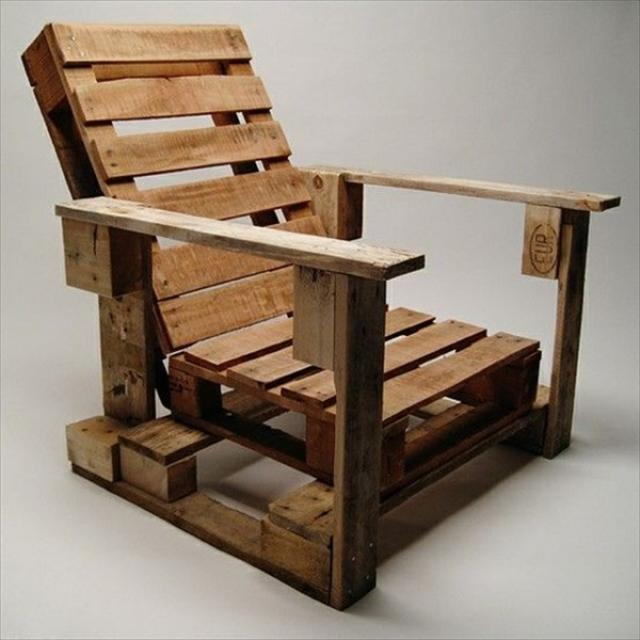Palette: (16, 8, 357, 352), (159, 258, 572, 498), (64, 399, 373, 604)
